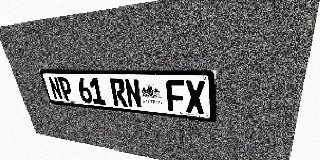1: (88, 78, 106, 105)
6: (76, 77, 93, 103)
F: (166, 80, 186, 112)
N: (124, 79, 142, 108), (47, 77, 64, 101)
P: (57, 77, 74, 102)
R: (109, 78, 128, 107)
X: (185, 80, 205, 114)
